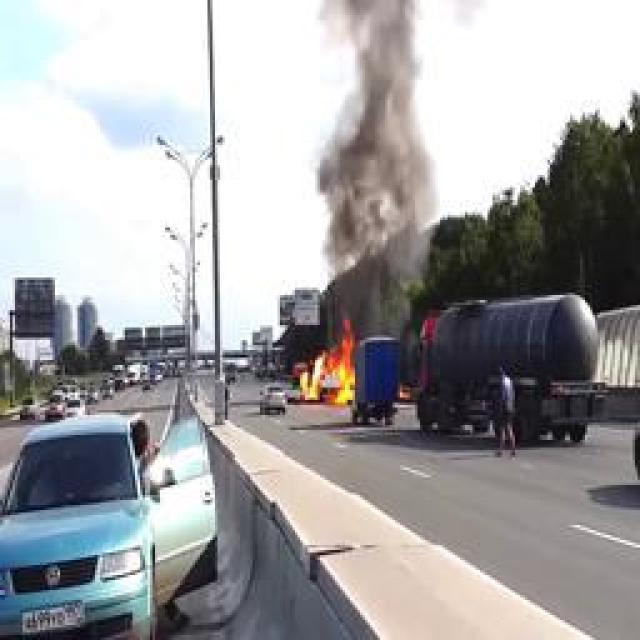Fire: (302, 320, 358, 405)
